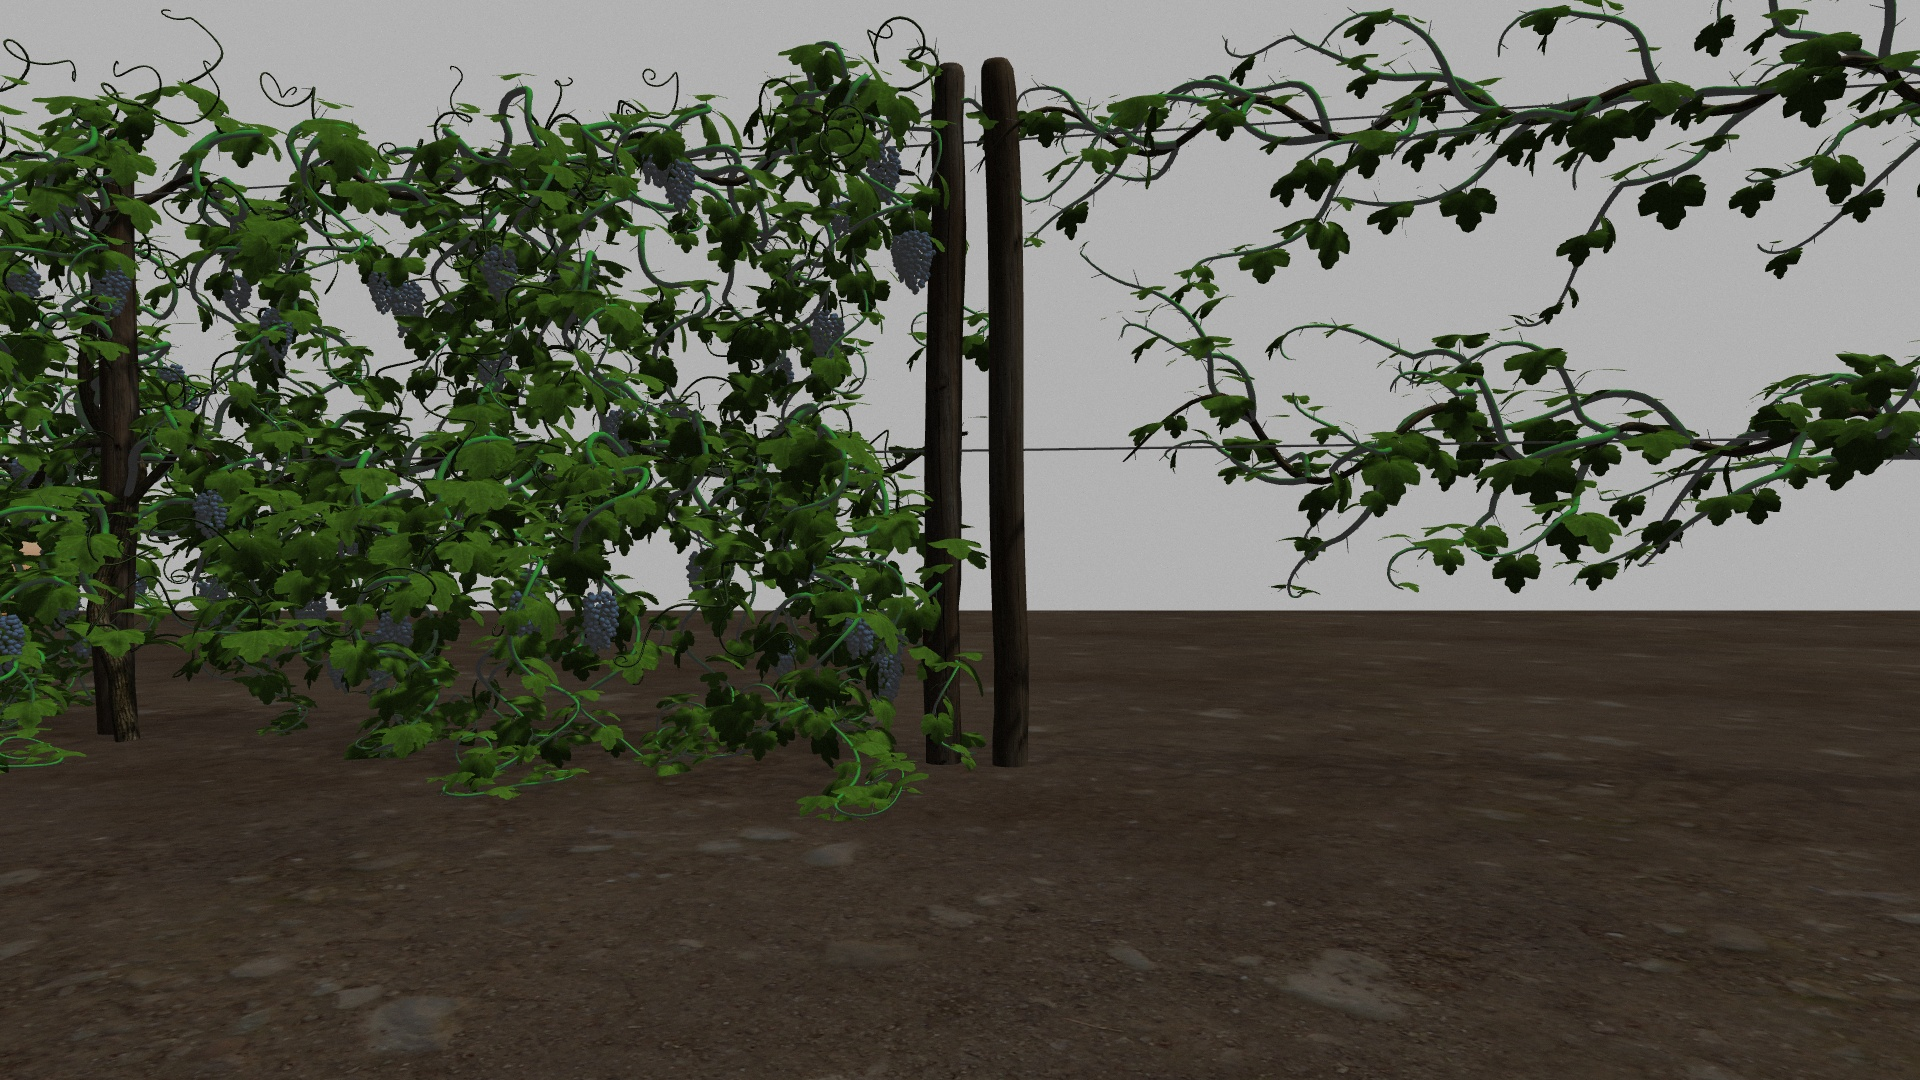grape: (891, 231, 932, 294), (582, 591, 618, 654), (92, 264, 132, 318), (480, 245, 518, 299), (869, 146, 901, 204), (193, 487, 228, 538), (810, 309, 845, 359), (258, 309, 293, 357), (371, 612, 415, 647), (393, 278, 425, 323), (665, 160, 695, 206), (843, 616, 874, 659), (874, 654, 903, 702), (367, 266, 396, 314), (3, 613, 26, 667), (222, 276, 252, 314), (642, 152, 670, 189), (160, 363, 186, 386)
